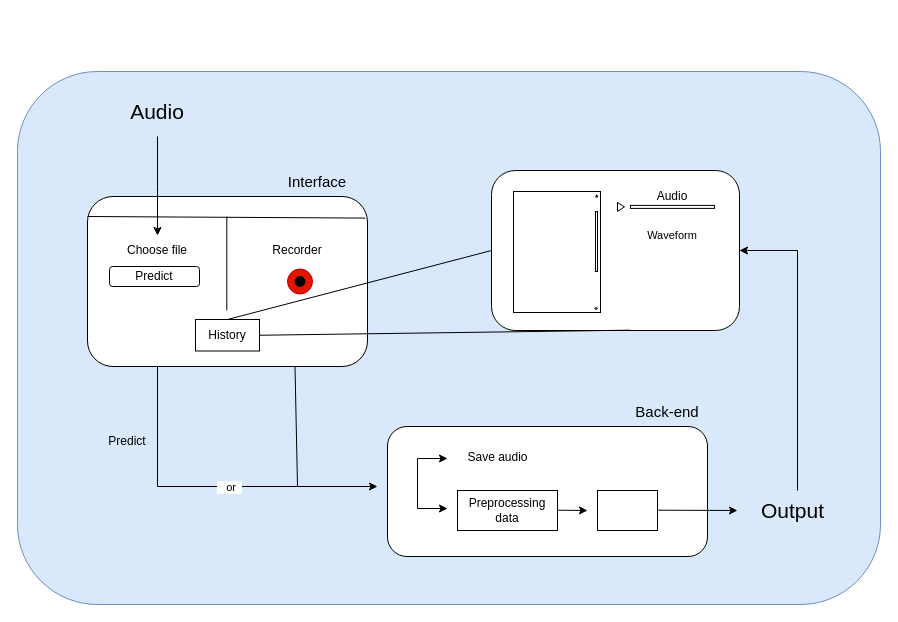
Some shapes in this 898 by 622 pixel diagram are drawn without their labels. Here are the shapes that lost their labels. From the top down, the centre of each, then its label:
(556,251): List of emotions
(627,510): Predict function
